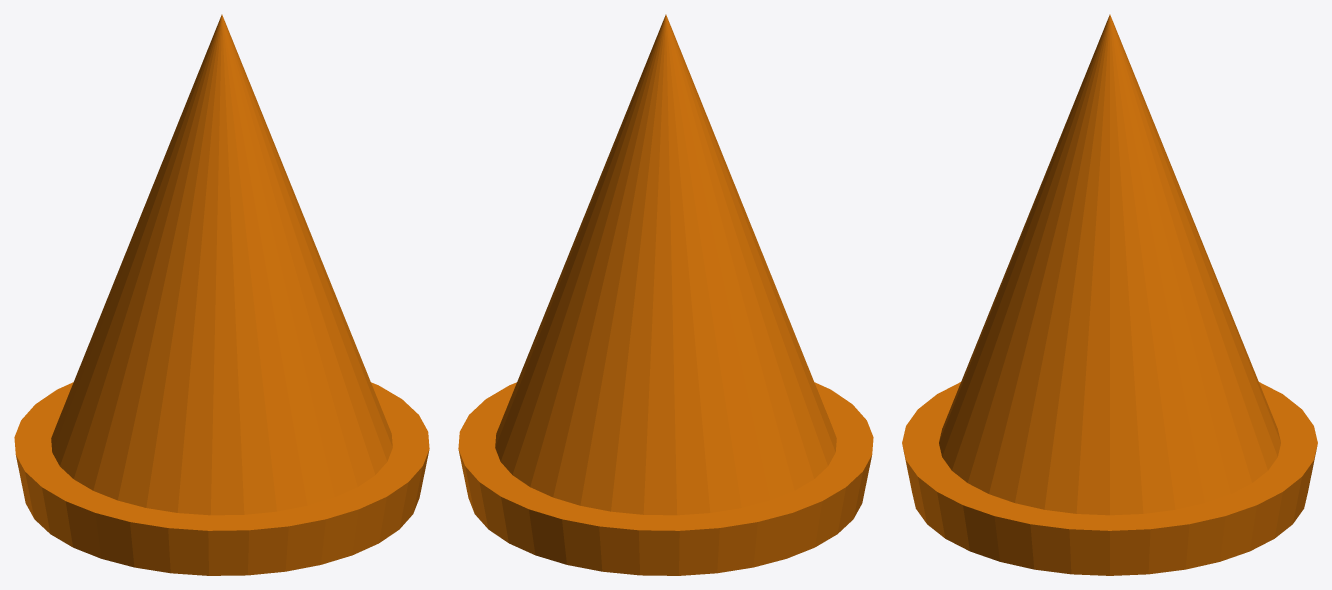
File: barrier.fbx
3 views of the same model, side by side, from view 1: azimuth 30°, elevation 25°; view 2: azimuth 150°, elevation 25°; view 3: azimuth 270°, elevation 25° (orthographic).
Parts seen in each view (by area): view 1: barrier; view 2: barrier; view 3: barrier.
Boxes of the visible parts, x1,y1,x2,y2 form: barrier: (14, 14, 429, 575); barrier: (458, 14, 873, 575); barrier: (902, 14, 1317, 575).
Size of the model in its own units: 122 by 155 by 122.
